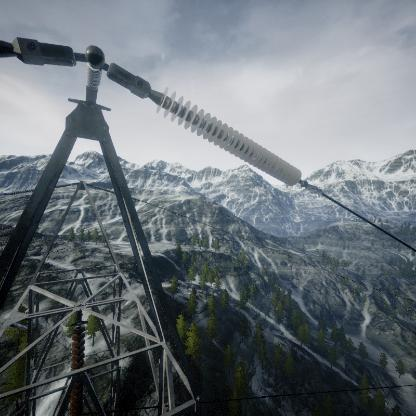insulator: (149, 86, 305, 192), (69, 324, 89, 416)
